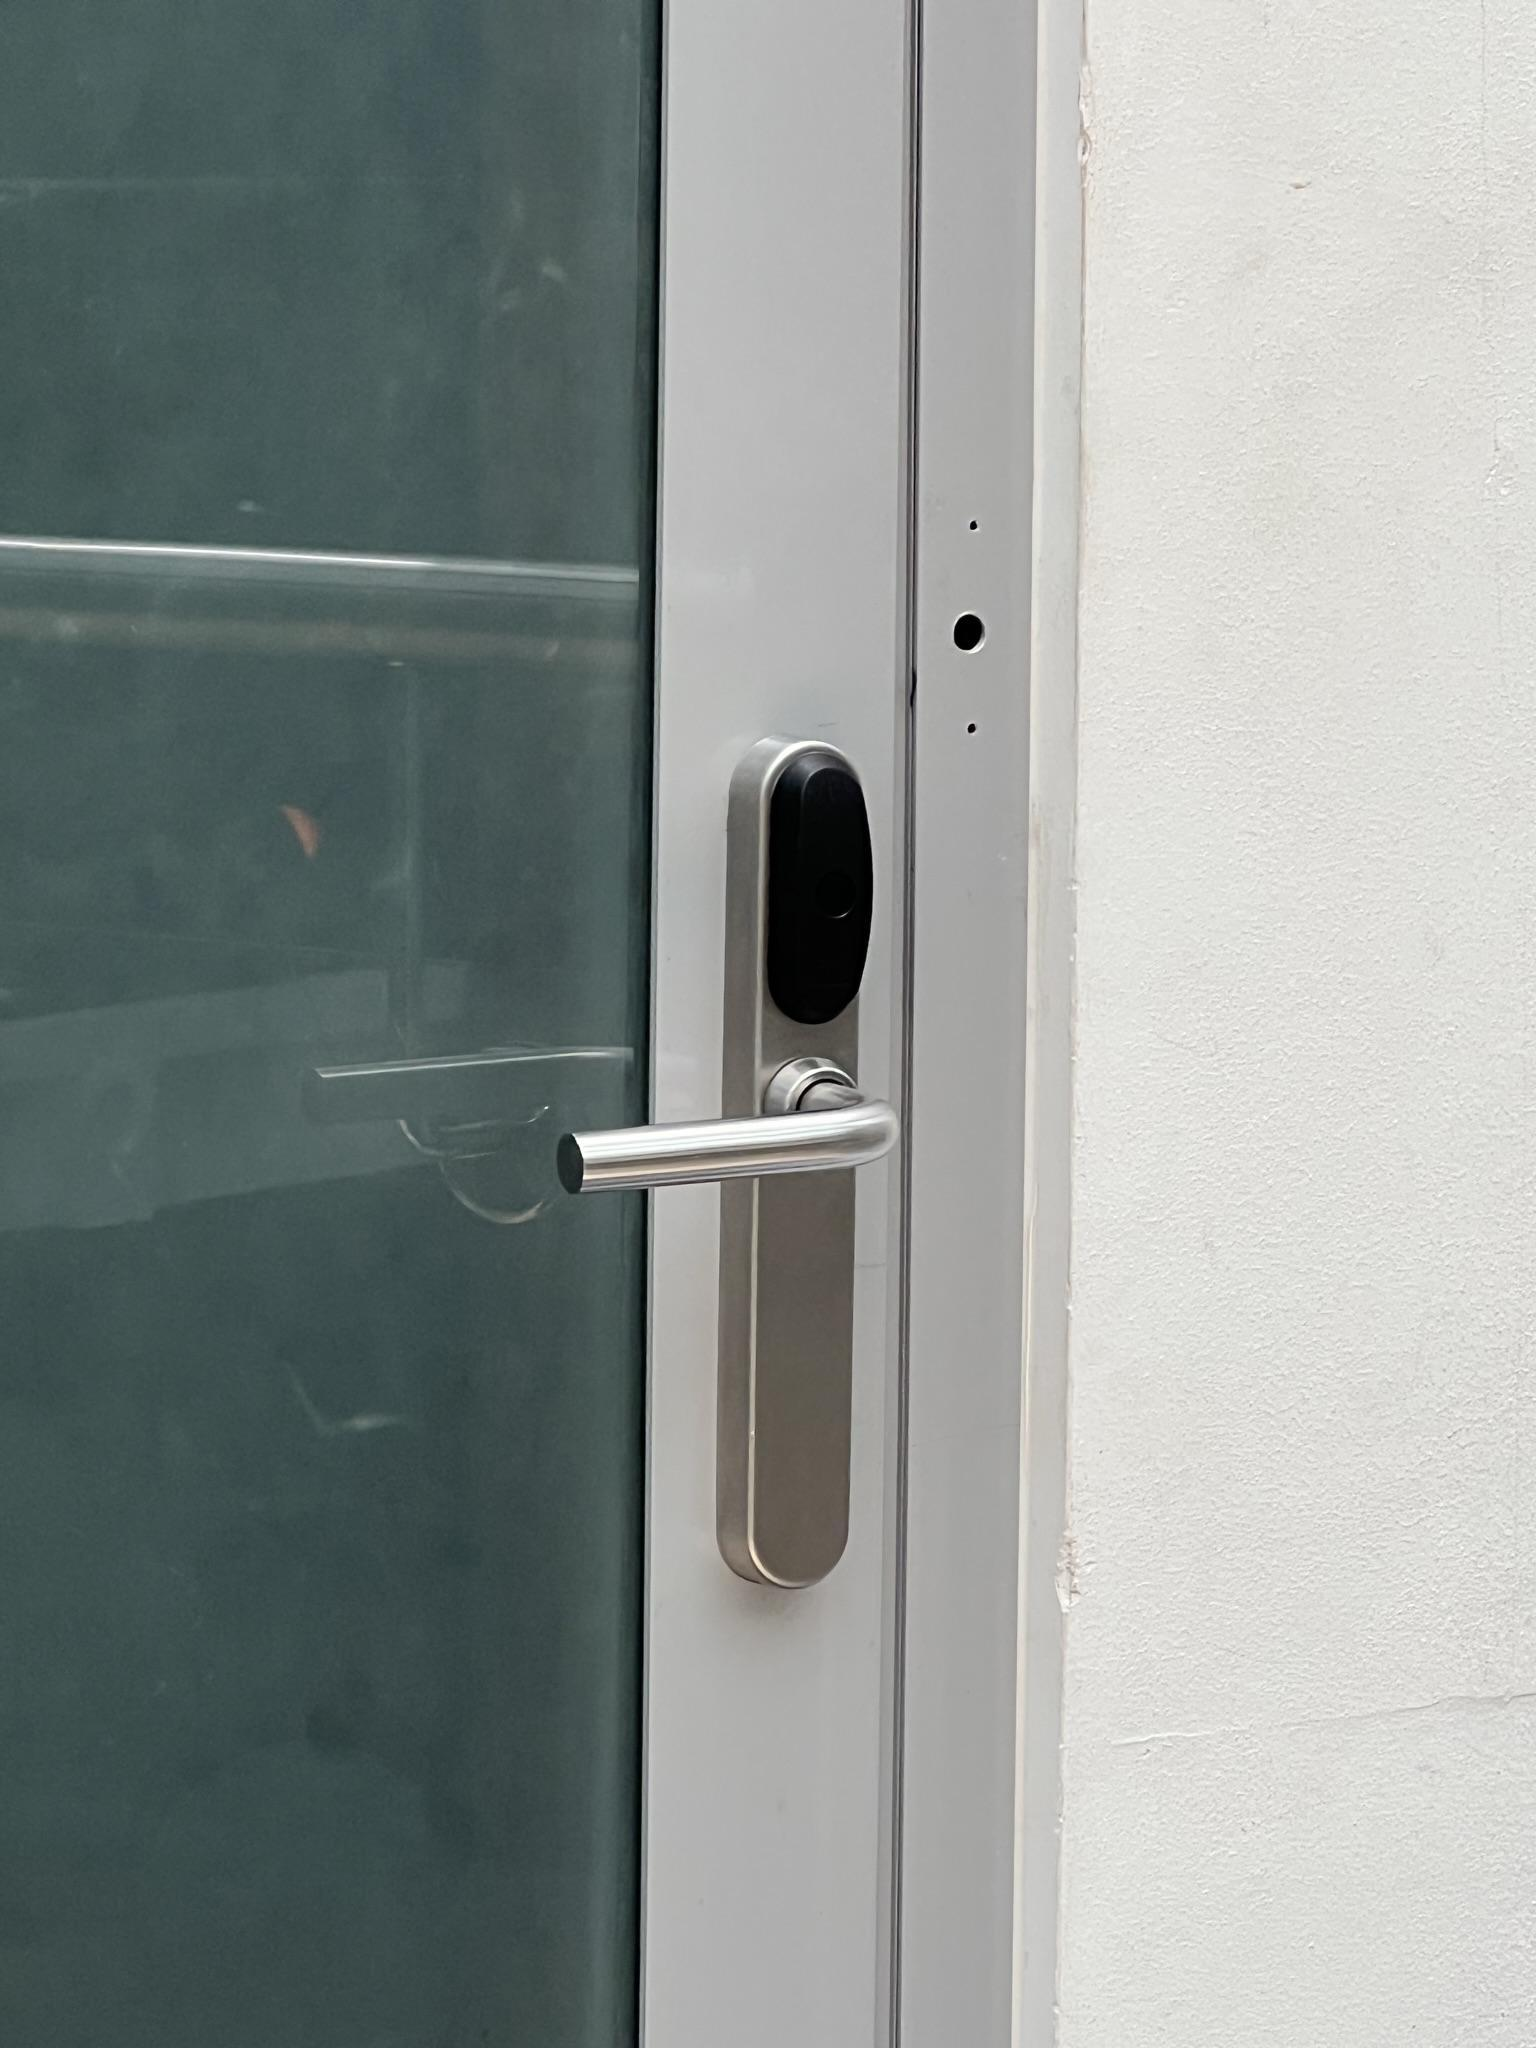door: (6, 2, 1025, 2038)
handle: (566, 701, 897, 1606)
